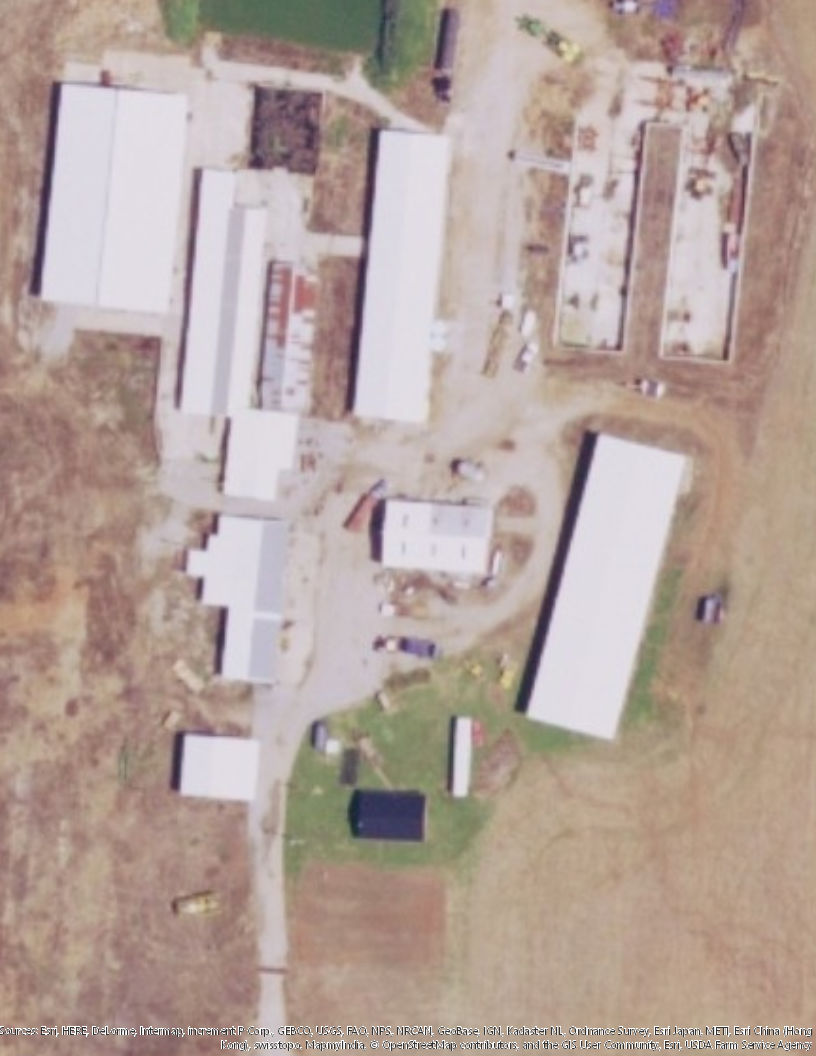cafo: (518, 427, 693, 747), (171, 153, 325, 502), (24, 78, 199, 322), (344, 123, 454, 432), (168, 510, 298, 695), (361, 494, 505, 589)
